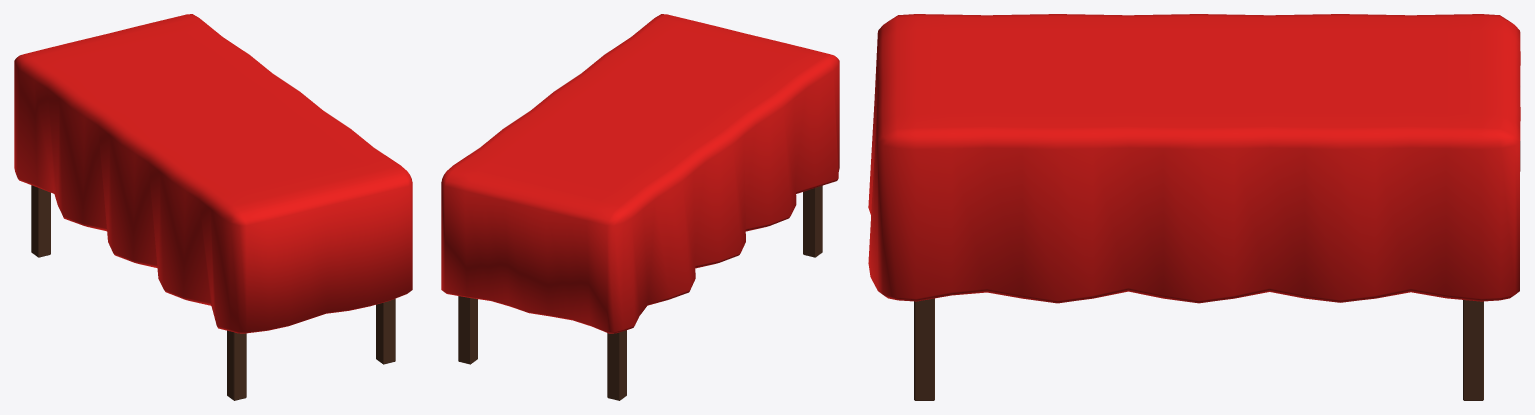
Rendered from Party_table.fbx.
3 views of the same model, side by side, from view 1: azimuth 30°, elevation 25°; view 2: azimuth 150°, elevation 25°; view 3: azimuth 270°, elevation 25° (orthographic). The views are drawn at different scales.
Parts seen in each view (by area): view 1: Party table; view 2: Party table; view 3: Party table.
Part boxes in pixels (x1,y1,x2,y2): Party table: [14, 14, 412, 400]; Party table: [441, 14, 839, 400]; Party table: [868, 14, 1520, 400].
Bounding box in the file's own units: 262 × 249 × 539.
